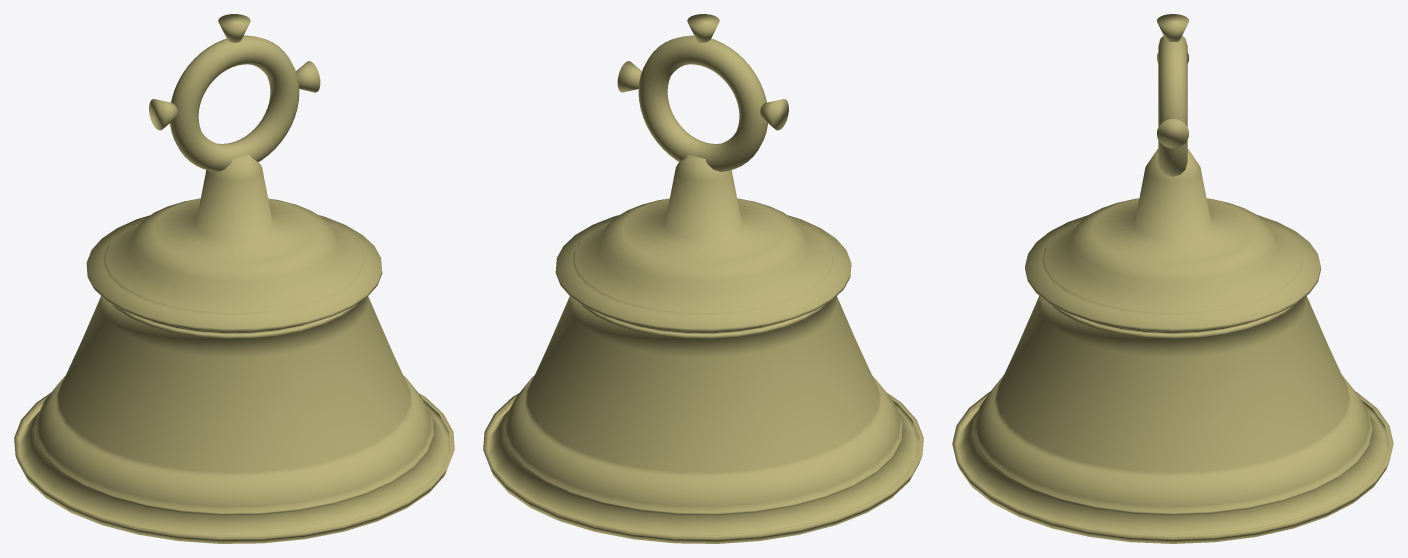
File: IndianBell.fbx
The picture shows the model from 3 angles, left to right: view 1: azimuth 30°, elevation 25°; view 2: azimuth 150°, elevation 25°; view 3: azimuth 270°, elevation 25°; orthographic projection.
Parts seen in each view (by area): view 1: Torus; view 2: Torus; view 3: Torus.
Part boxes in pixels (x1,y1,x2,y2): Torus: (14,14,454,543); Torus: (483,14,923,543); Torus: (952,14,1393,543).
Size of the model in its own units: 329 by 369 by 329.
